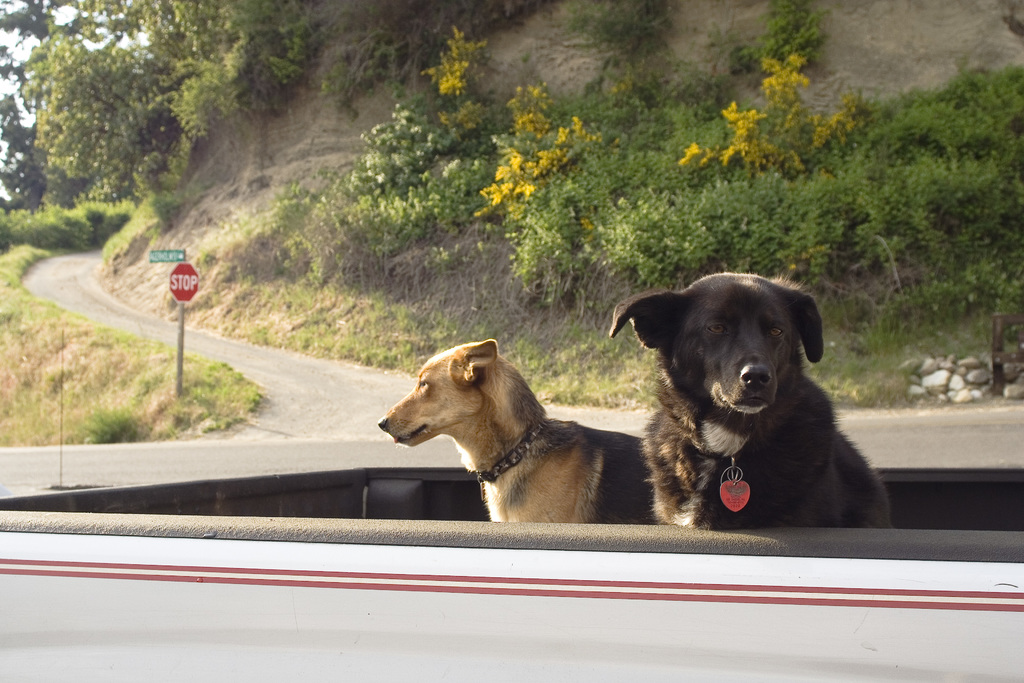Tree: (16, 0, 277, 205), (0, 0, 82, 219)
